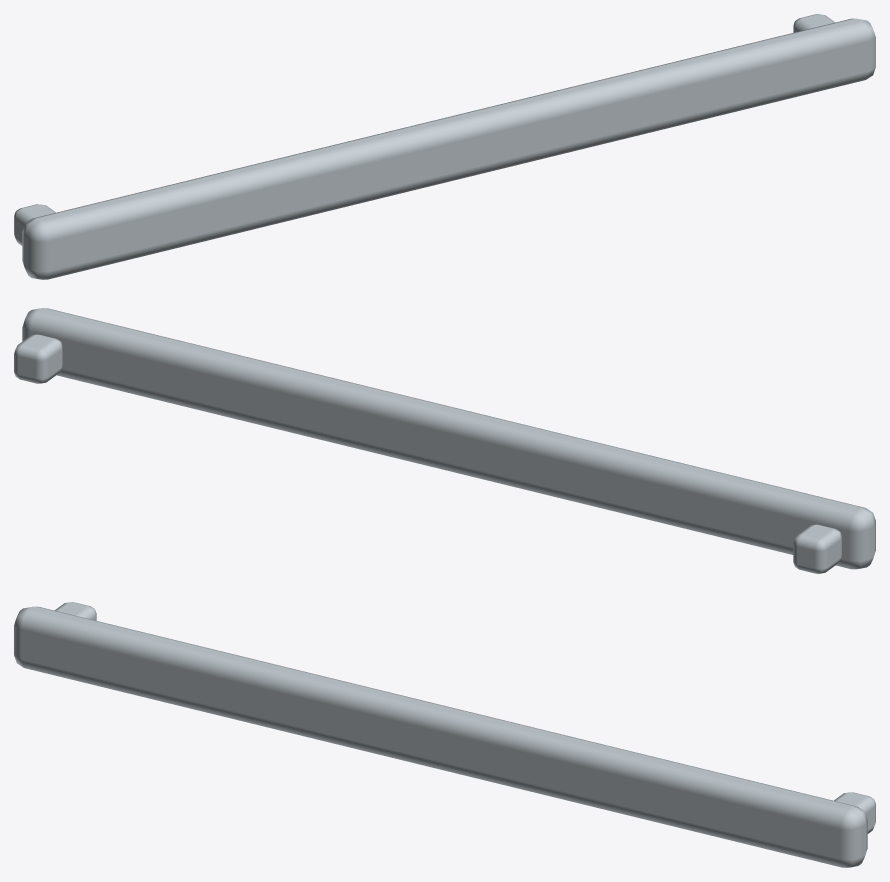
The model's file is SM_BarHandle_30.glb.
The picture shows the model from 3 angles, top to bottom: view 1: azimuth 30°, elevation 25°; view 2: azimuth 150°, elevation 25°; view 3: azimuth 330°, elevation 25°; orthographic projection.
Visible parts, largest first — view 1: SM_BarHandle_30; view 2: SM_BarHandle_30; view 3: SM_BarHandle_30.
Part boxes in pixels (x1,y1,x2,y2): SM_BarHandle_30: [14, 14, 875, 279]; SM_BarHandle_30: [14, 308, 875, 573]; SM_BarHandle_30: [14, 602, 875, 867].
Bounding box in the file's own units: 0.3 × 0.02 × 0.026.
1 material, 1 textured.
